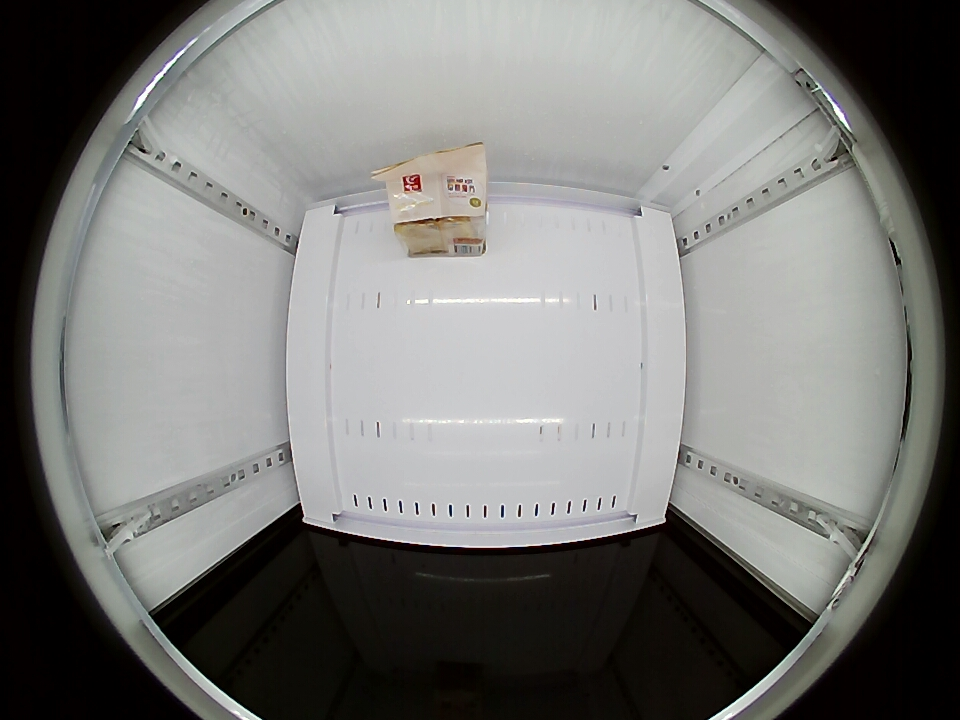zaocanmofang: (381, 144, 488, 248)
